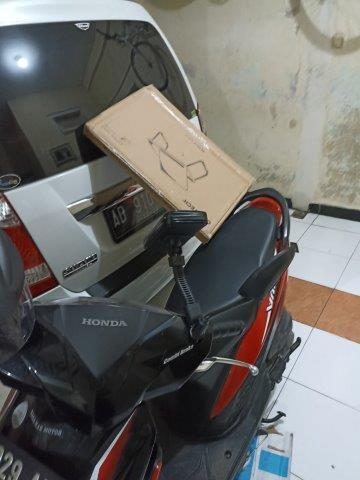kardus: (86, 87, 254, 237)
